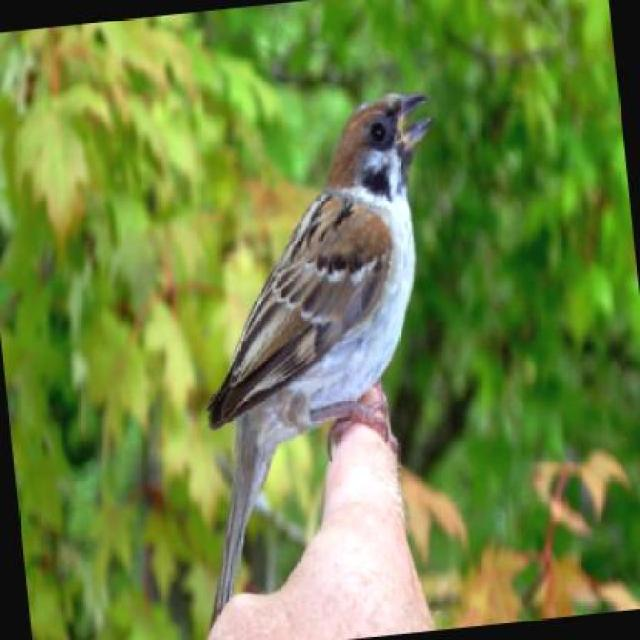sparrow: (151, 87, 484, 630)
